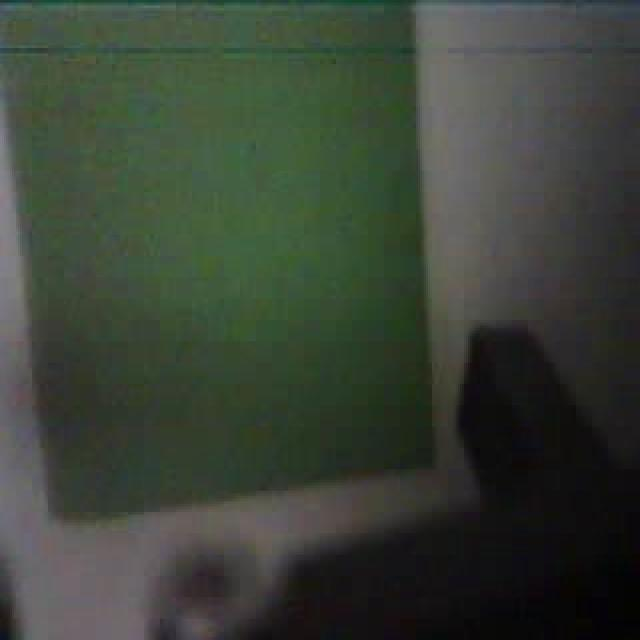green_box: (0, 0, 438, 523)
